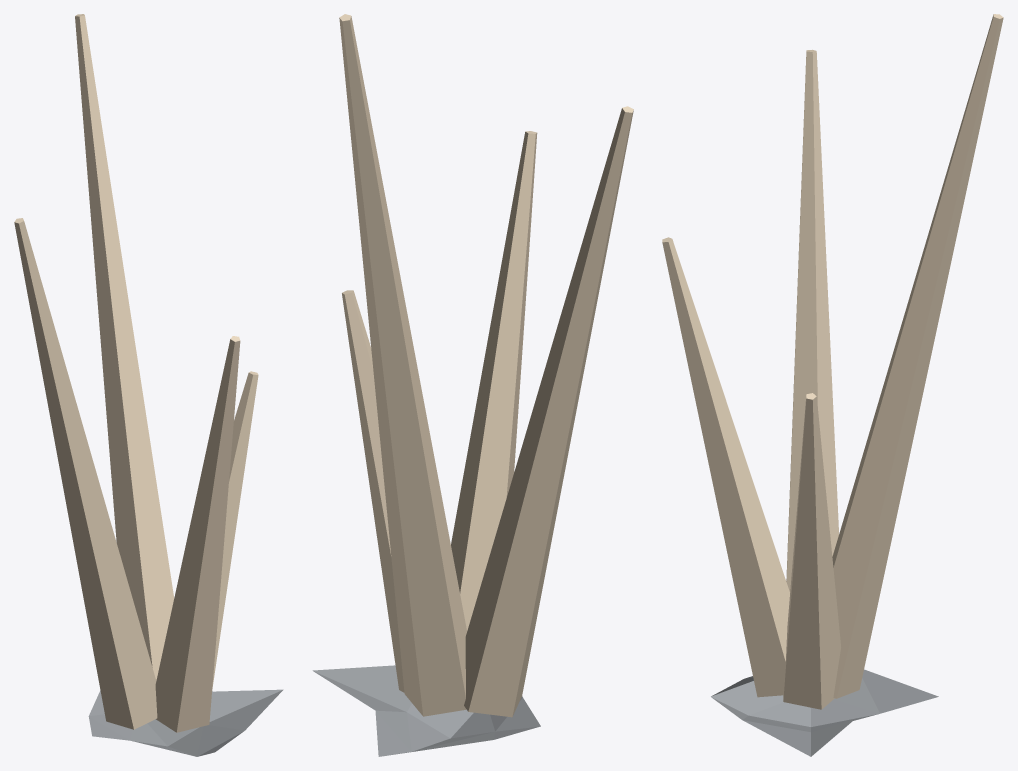
The model's file is crystal_v04.glb.
3 renders of one model, left to right at view 1: azimuth 30°, elevation 25°; view 2: azimuth 150°, elevation 25°; view 3: azimuth 270°, elevation 25°, orthographic. The views are drawn at different scales.
Visible parts, largest first — view 1: lod0; view 2: lod0; view 3: lod0.
Part boxes in pixels (x1,y1,x2,y2): lod0: (14,14,283,756); lod0: (312,14,633,756); lod0: (662,14,1003,756).
Size of what is drawn, in the model's own units: 0.8685 by 2.06 by 0.8967.
